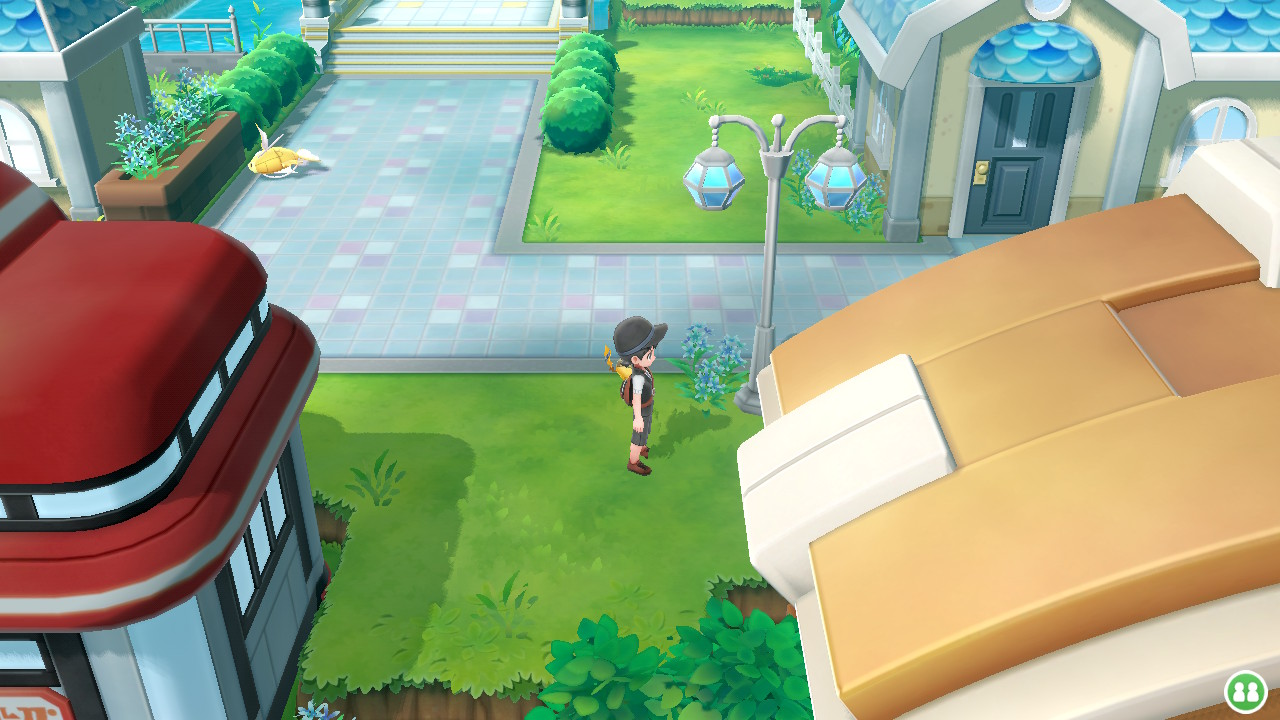Golden: (248, 134, 318, 179)
